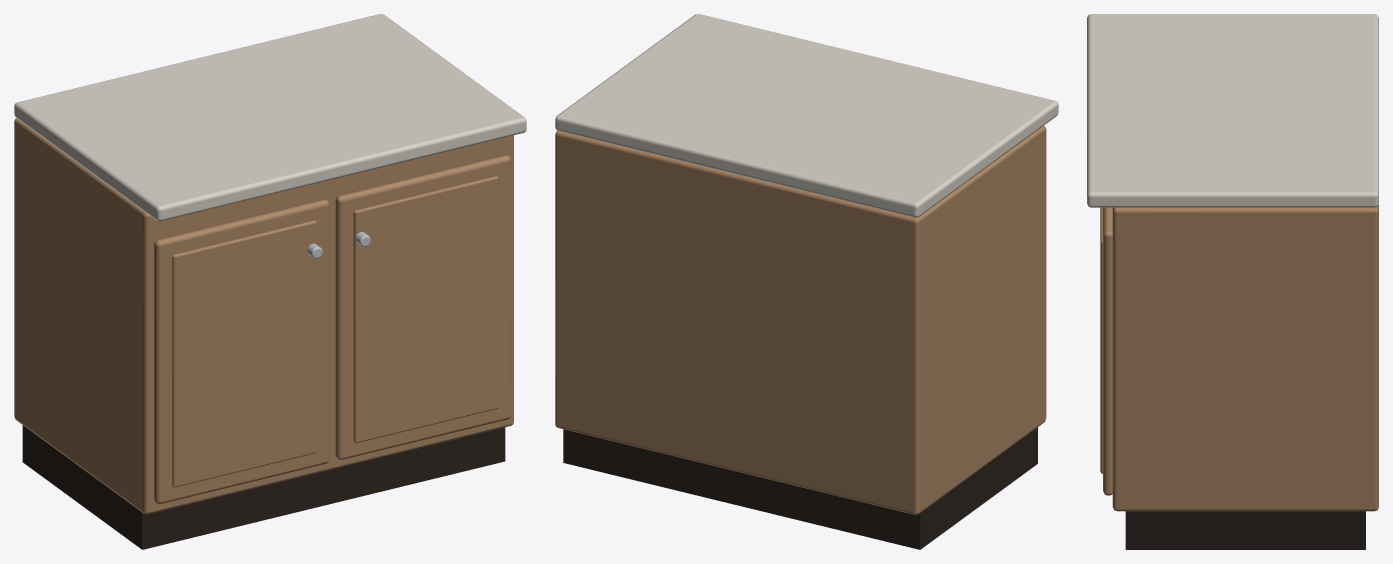
The model's file is counter_basic.glb.
3 views of the same model, side by side, from view 1: azimuth 30°, elevation 25°; view 2: azimuth 150°, elevation 25°; view 3: azimuth 270°, elevation 25° (orthographic). The views are drawn at different scales.
Parts seen in each view (by area): view 1: Cube.006, Cube.001, Cube.005, Cube.003, Cube, Cube.004, Cube.002; view 2: Cube.001, Cube.006, Cube; view 3: Cube.001, Cube.006, Cube, Cube.004, Cube.005.
Boxes of the visible parts, bbox=[...] form: Cube.006: bbox=[14, 14, 526, 221]; Cube.001: bbox=[14, 118, 513, 514]; Cube.005: bbox=[353, 176, 498, 443]; Cube.003: bbox=[172, 220, 316, 487]; Cube: bbox=[22, 425, 505, 549]; Cube.004: bbox=[335, 155, 510, 459]; Cube.002: bbox=[154, 199, 329, 503]; Cube.001: bbox=[555, 126, 1046, 514]; Cube.006: bbox=[555, 14, 1058, 217]; Cube: bbox=[563, 427, 1037, 549]; Cube.001: bbox=[1112, 204, 1378, 511]; Cube.006: bbox=[1087, 14, 1378, 207]; Cube: bbox=[1125, 511, 1365, 549]; Cube.004: bbox=[1103, 207, 1112, 495]; Cube.005: bbox=[1100, 207, 1102, 473].
Size of the model in its own units: 1 by 0.92 by 0.68.
